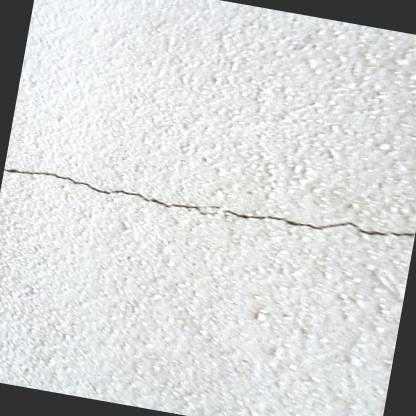crack: (4, 168, 415, 236)
